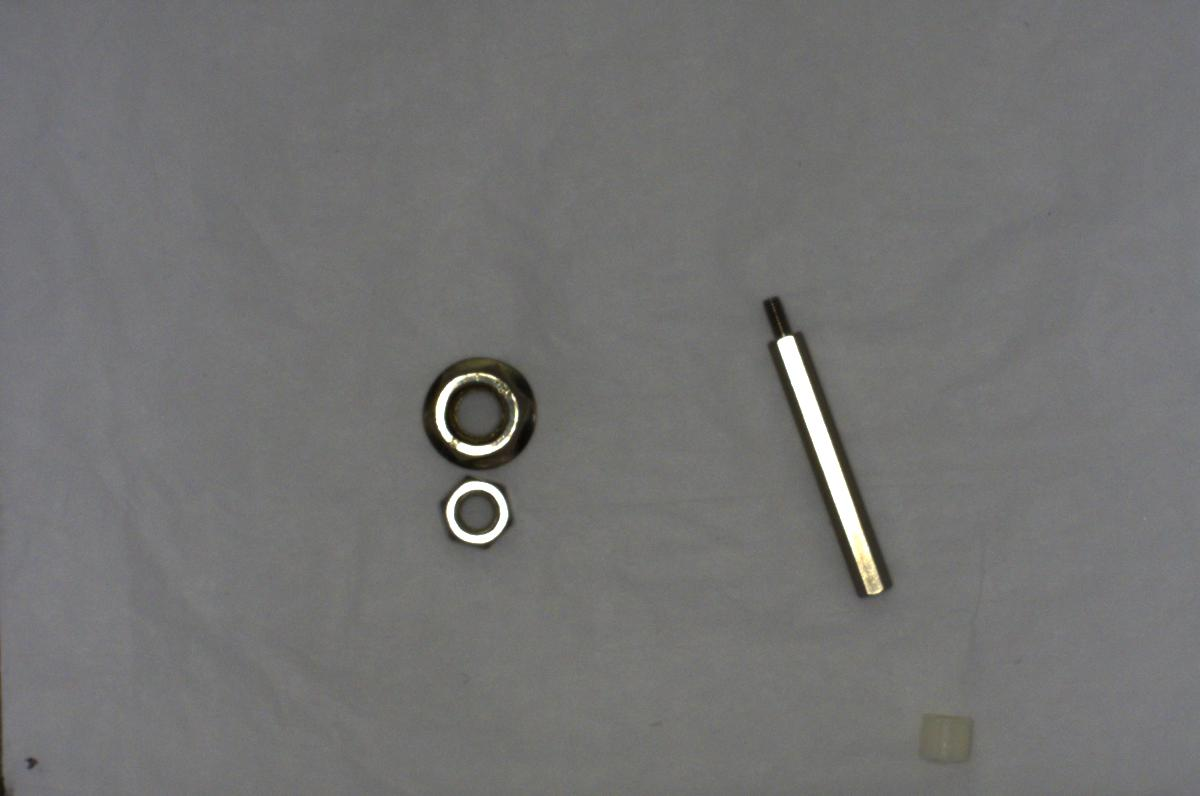Flange nut: (415, 356, 537, 465)
Hexagon nut: (418, 474, 527, 561)
Hexagonal steel column: (760, 292, 898, 607)
Plastic cushion pillar: (913, 699, 982, 767)
